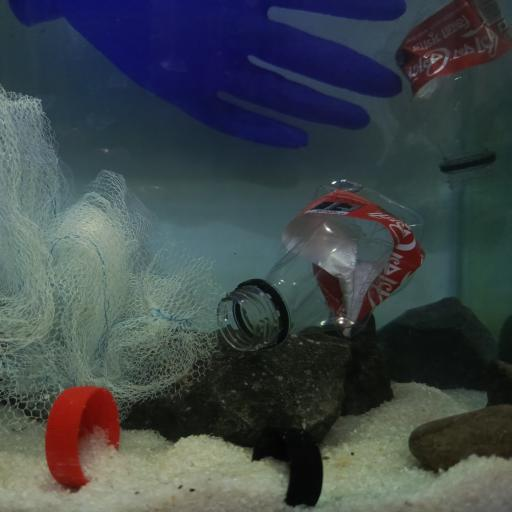bottle_cap: (48, 385, 120, 489), (253, 425, 325, 507)
glove: (9, 0, 402, 148)
net: (0, 90, 220, 431)
plastic_bottle: (214, 174, 428, 356), (394, 0, 512, 192)
